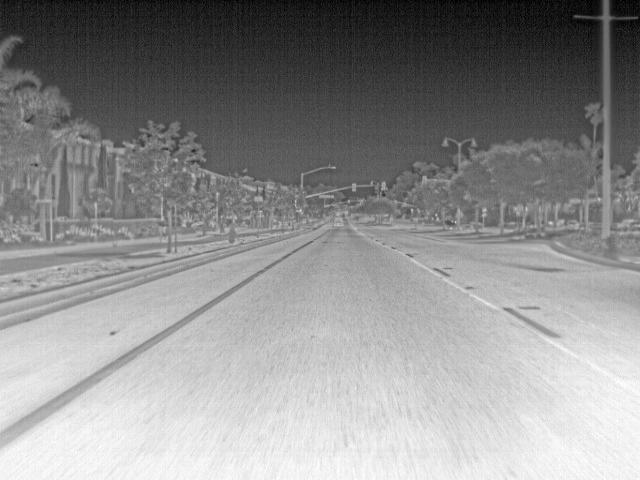car: (459, 220, 475, 232), (590, 220, 603, 234), (566, 218, 581, 230), (444, 220, 458, 230), (333, 215, 345, 226)
person: (158, 216, 169, 237), (218, 213, 227, 233)
